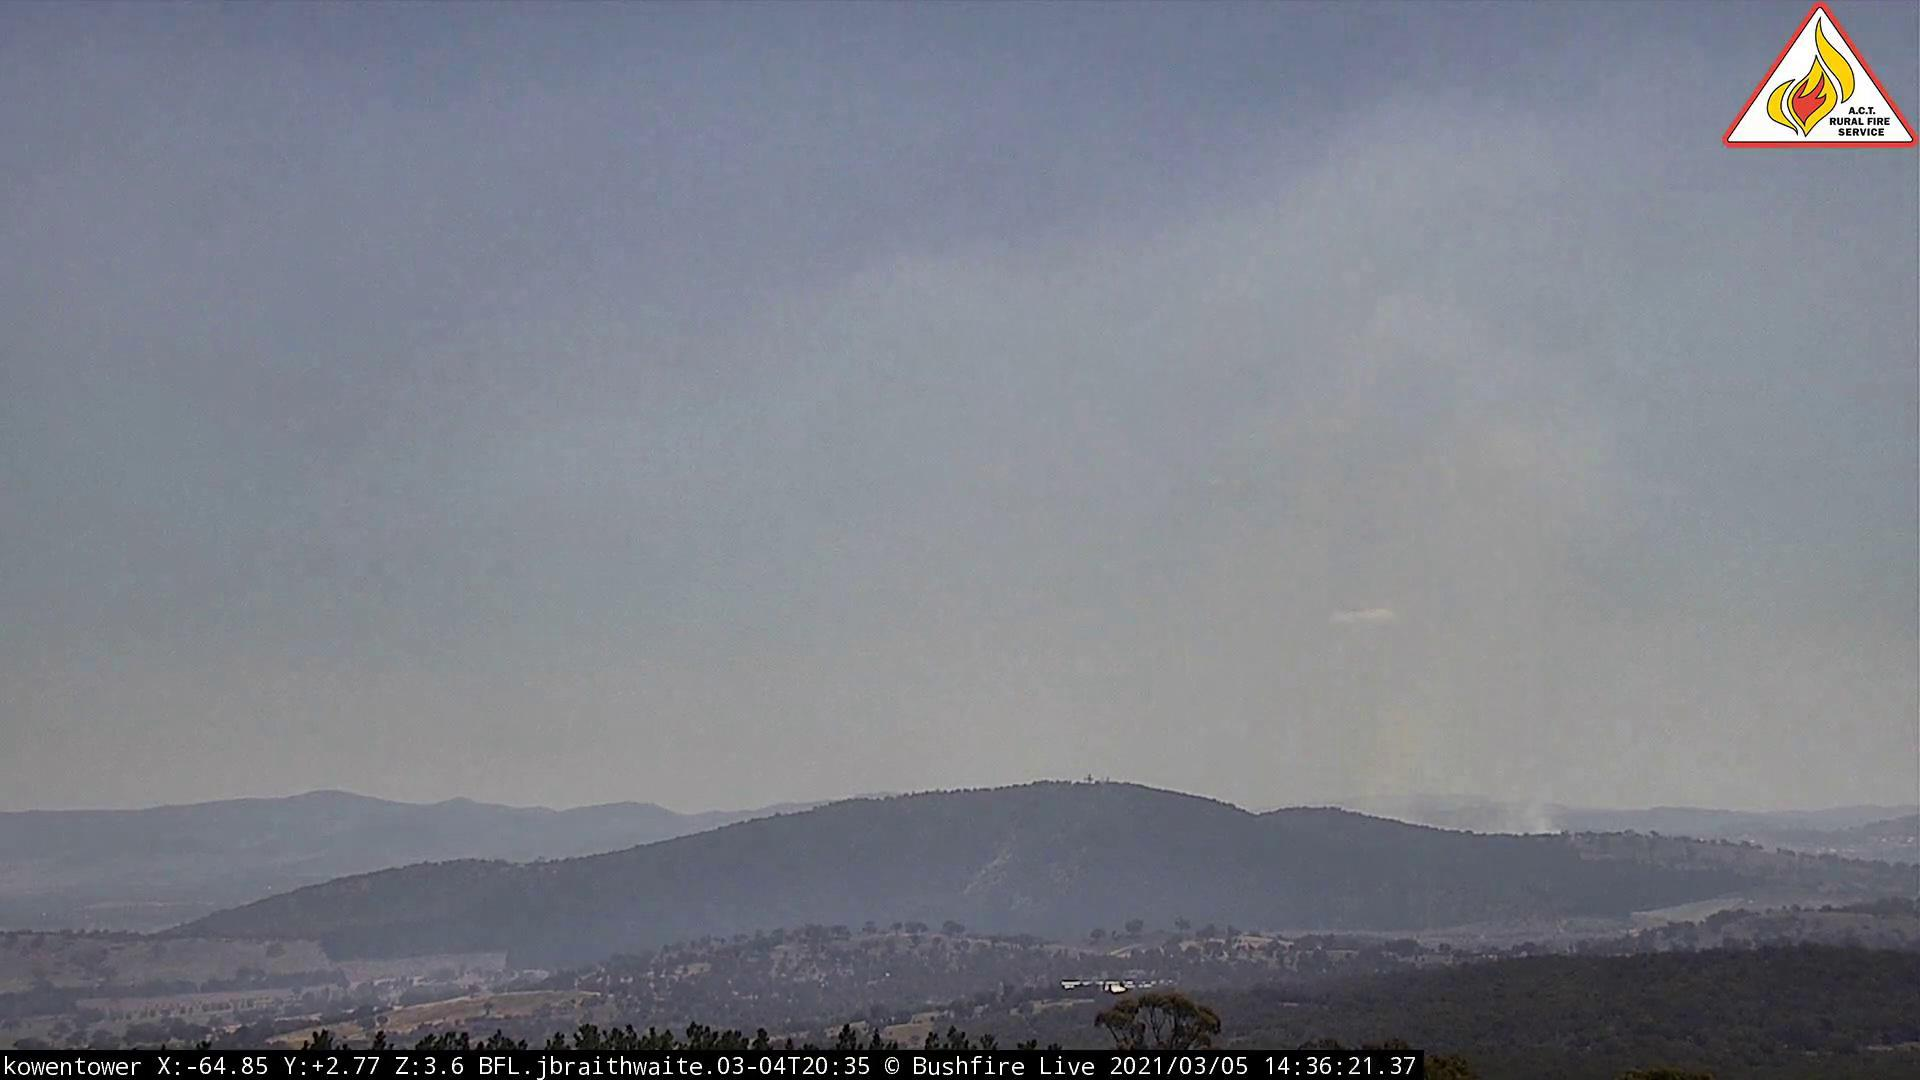Smoke: (1222, 276, 1665, 852)
